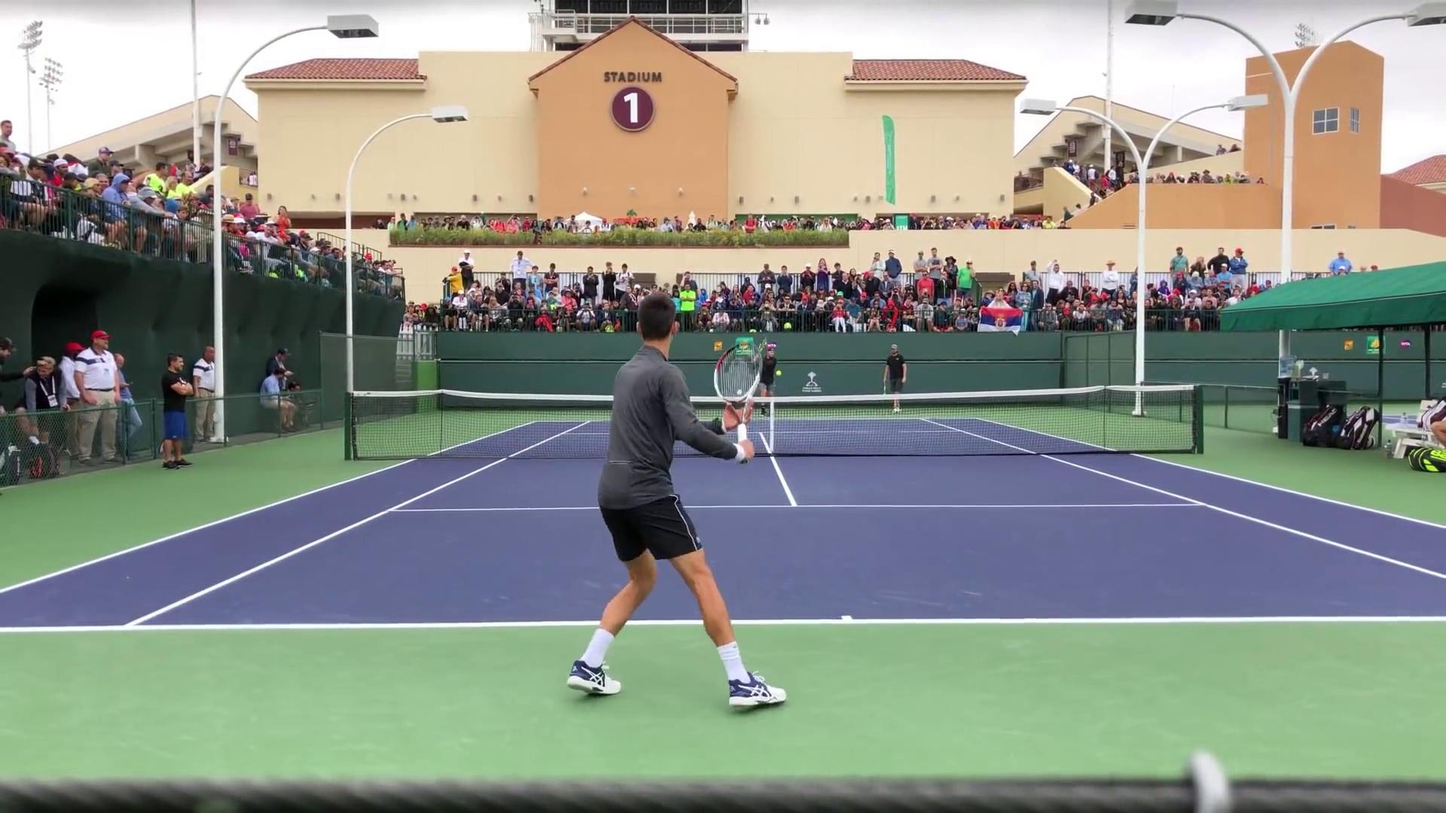ball: (774, 370, 782, 378)
